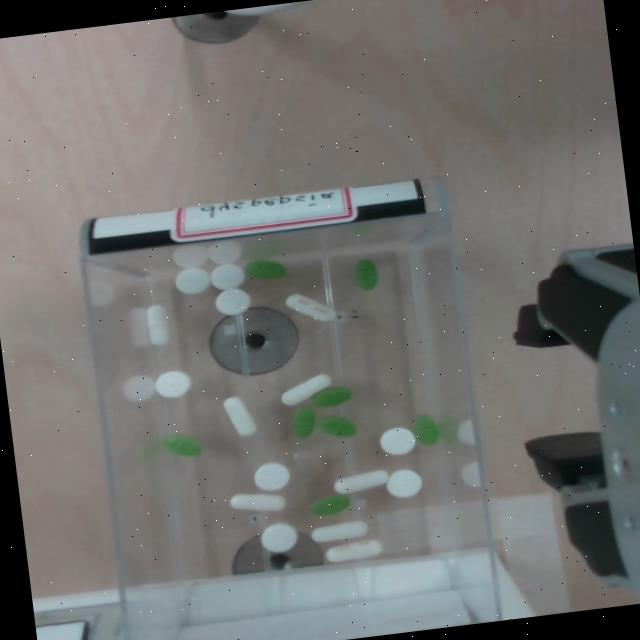magmil_tab: (260, 520, 297, 551), (253, 460, 289, 489), (385, 468, 422, 496), (154, 369, 190, 396), (379, 426, 415, 453), (214, 287, 249, 313), (174, 266, 209, 292), (209, 262, 244, 288)
medilacsenteric_tab: (280, 373, 330, 403), (284, 292, 335, 320), (222, 395, 256, 434), (333, 468, 388, 492), (311, 518, 367, 540), (325, 538, 381, 560), (230, 492, 284, 510), (145, 303, 168, 343)
nexilen_tab: (160, 433, 200, 455), (310, 385, 351, 406), (309, 492, 348, 514), (317, 414, 355, 436), (412, 414, 439, 444), (243, 259, 285, 277), (291, 405, 315, 436), (353, 258, 377, 288)
